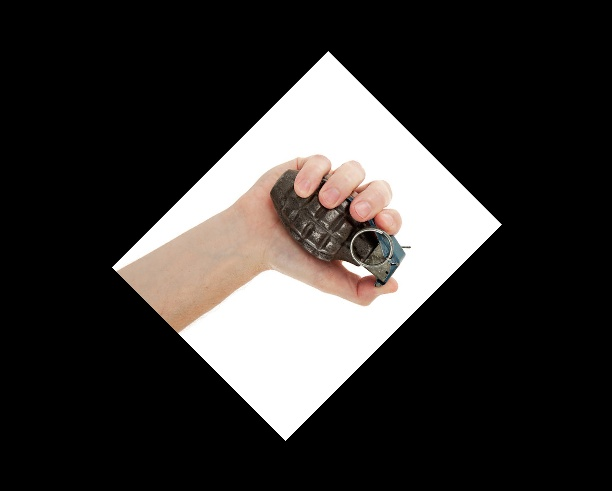e1: (271, 163, 408, 288)
